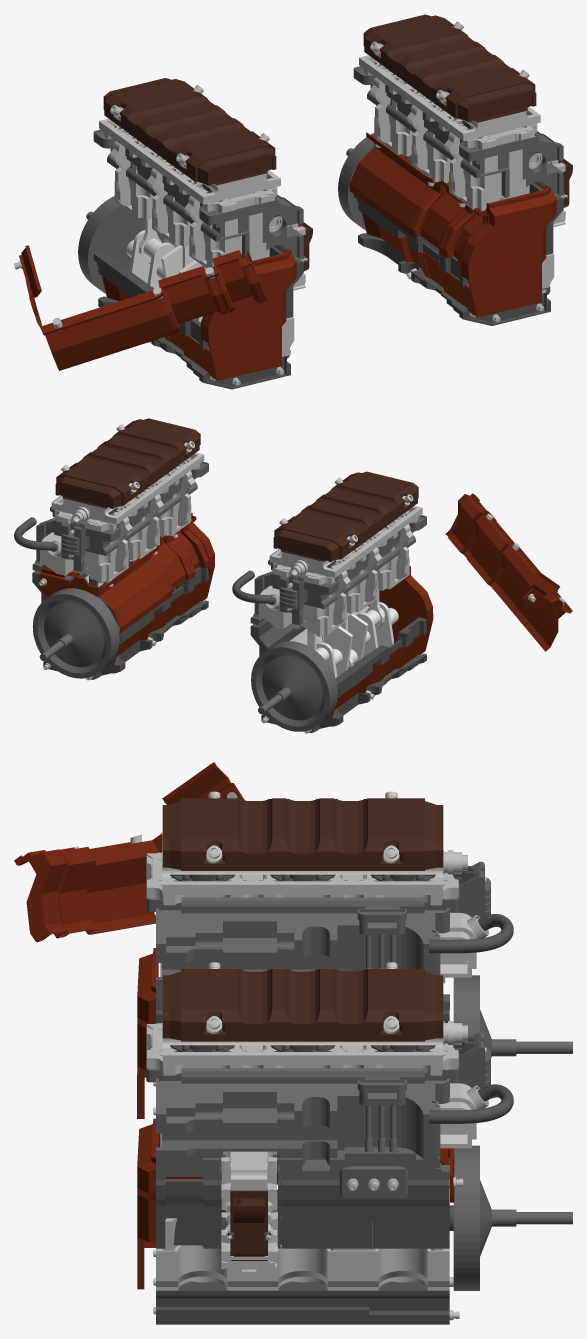
File: engine.gltf
3 views of the same model, one above another, from view 1: azimuth 30°, elevation 25°; view 2: azimuth 150°, elevation 25°; view 3: azimuth 270°, elevation 25° (orthographic). The views are drawn at different scales.
Parts seen in each view (by area): view 1: Cylinder.002_1, Cylinder.001_0; view 2: Cylinder.002_1, Cylinder.001_0; view 3: Cylinder.001_0, Cylinder.002_1.
Boxes of the visible parts, x1,y1,x2,y2 form: Cylinder.002_1: (14,78,312,389); Cylinder.001_0: (338,14,572,325); Cylinder.002_1: (232,471,572,733); Cylinder.001_0: (14,418,214,680); Cylinder.001_0: (137,962,572,1324); Cylinder.002_1: (14,762,572,1118).
Size of the model in its own units: 2.07 by 0.7949 by 1.32.
